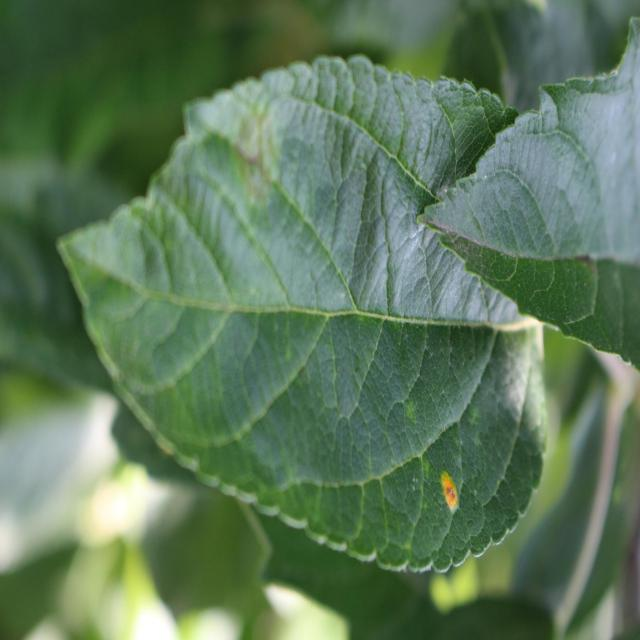Rust: (429, 461, 468, 519)
